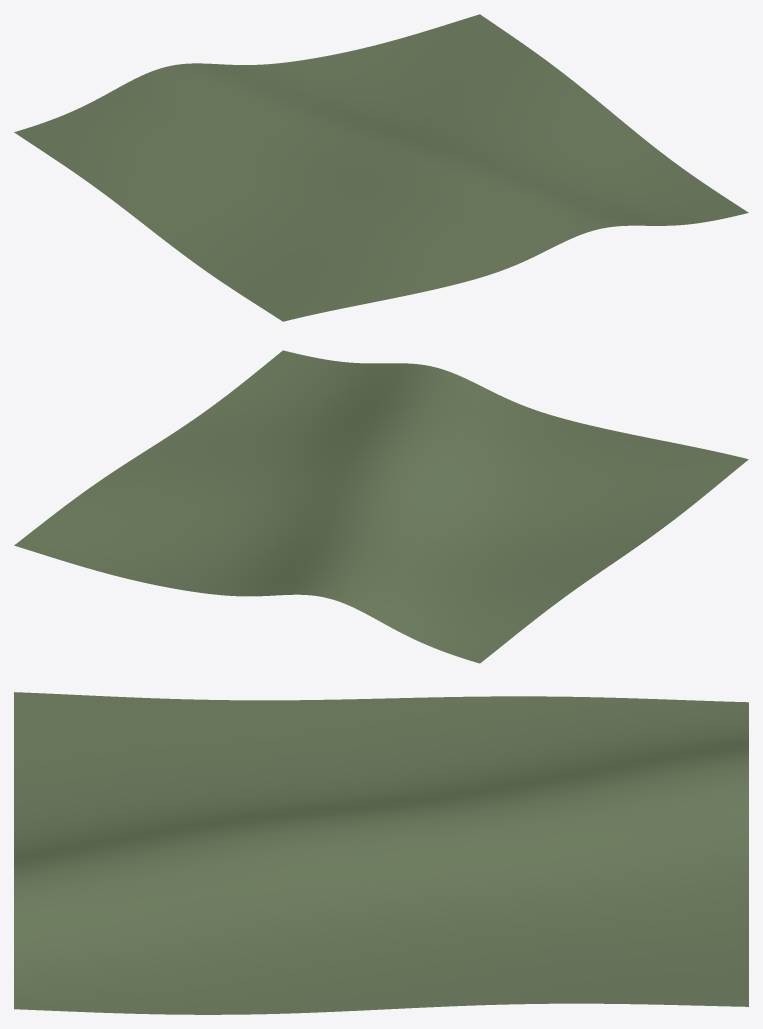
Rendered from sapphire_tidal_bench.obj.
The picture shows the model from 3 angles, top to bottom: view 1: azimuth 30°, elevation 25°; view 2: azimuth 150°, elevation 25°; view 3: azimuth 270°, elevation 25°; orthographic projection. The views are drawn at different scales.
Size of the model in its own units: 179 by 10.99 by 179.
